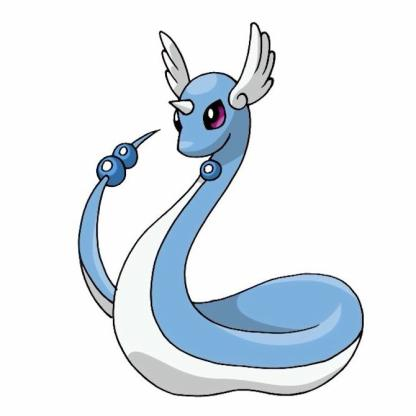Dragonair: (69, 21, 367, 403)
